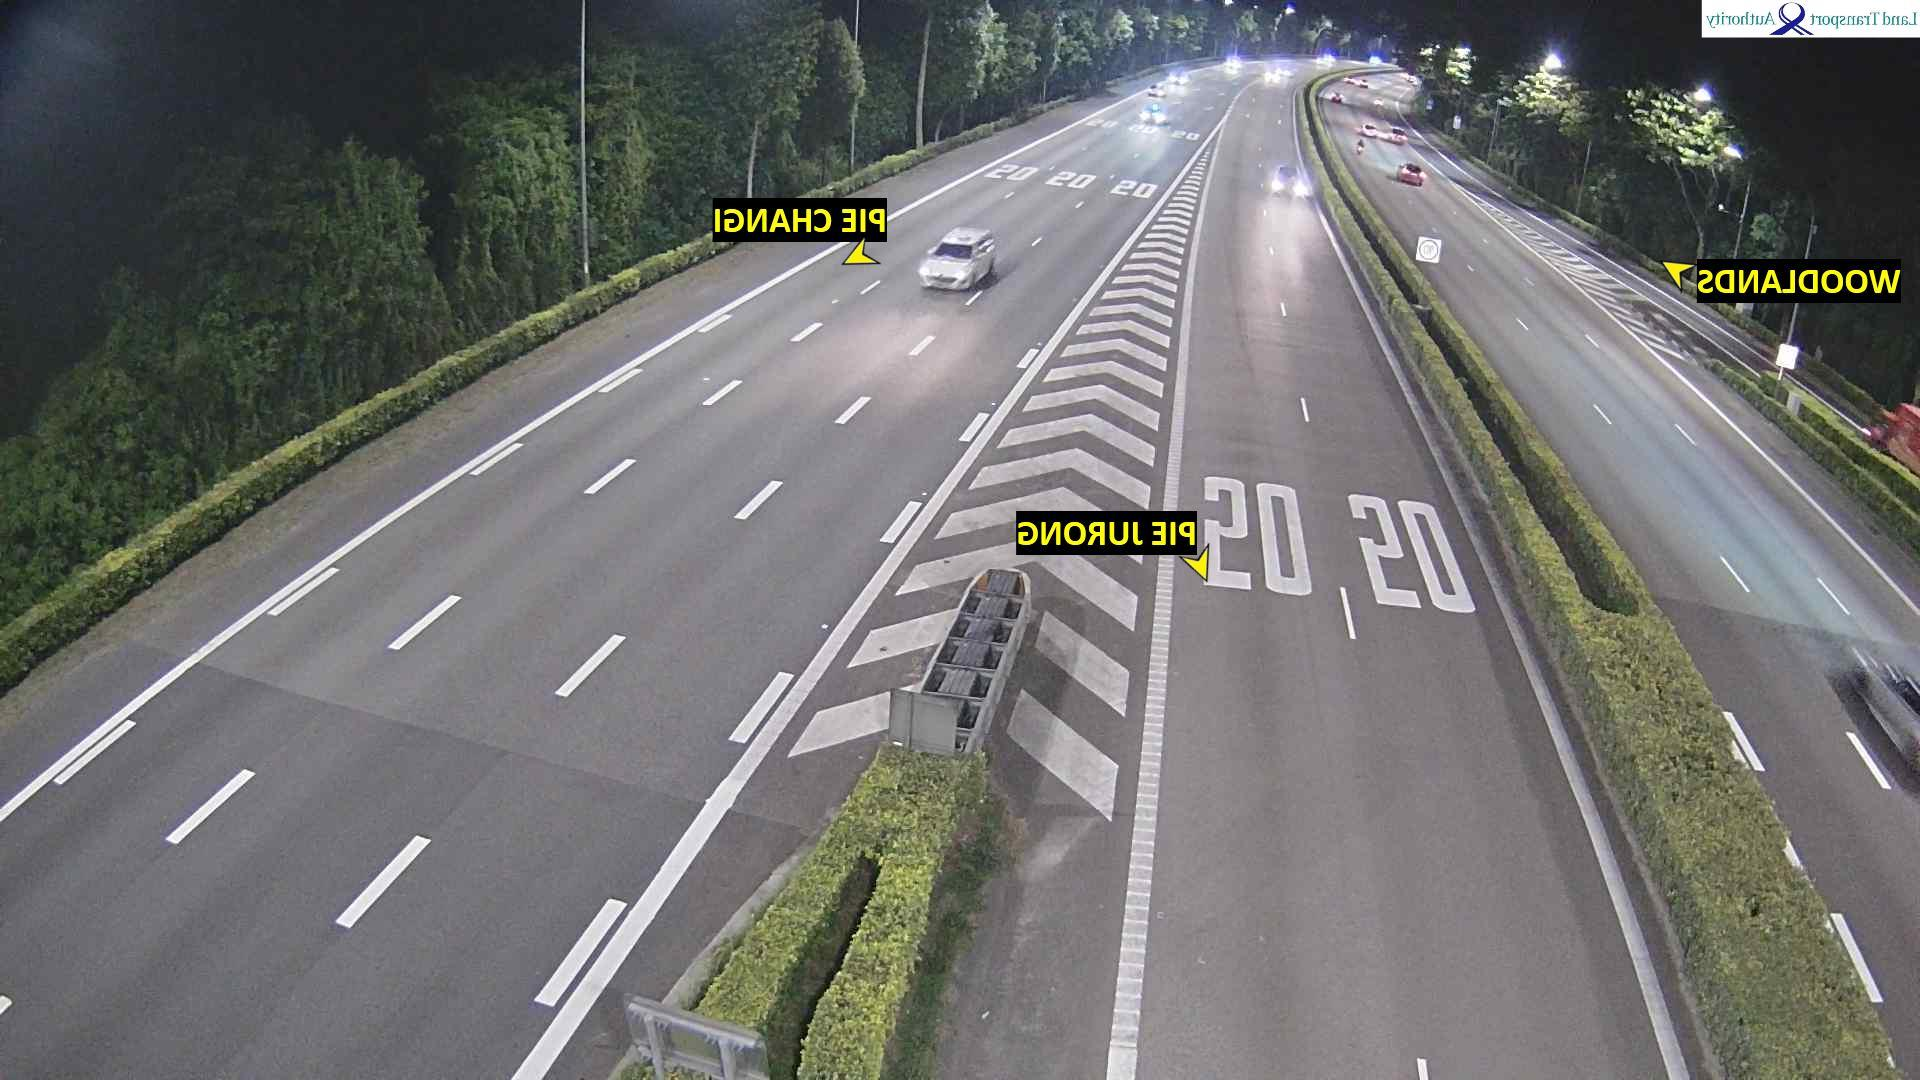cars: (1849, 645, 1920, 774), (918, 225, 998, 291), (1273, 164, 1313, 198), (1139, 102, 1171, 127), (1398, 161, 1425, 185), (1168, 67, 1191, 84), (1316, 51, 1337, 69), (1149, 80, 1168, 98), (1360, 120, 1379, 137), (1390, 125, 1408, 142), (1226, 57, 1244, 73), (1276, 67, 1298, 78), (1265, 71, 1279, 83), (1367, 55, 1386, 65), (1332, 90, 1344, 103), (1341, 74, 1357, 83), (1360, 75, 1370, 88)
